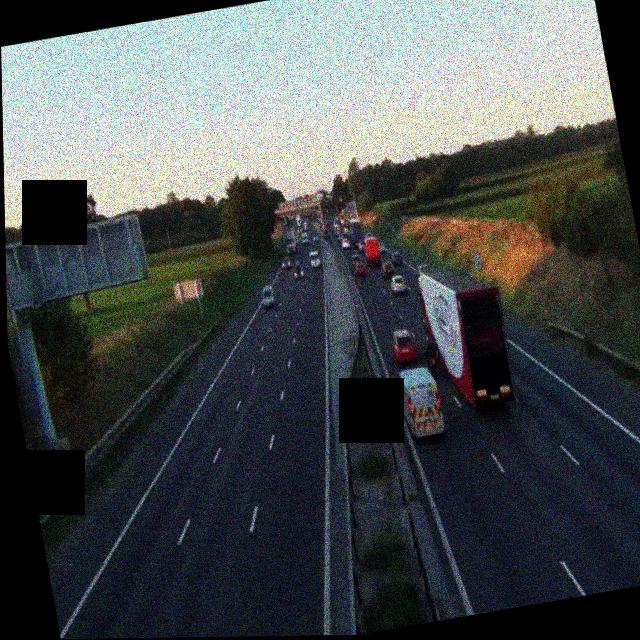car: (389, 326, 421, 367), (259, 284, 278, 310), (389, 271, 408, 295), (380, 255, 397, 279), (354, 259, 369, 278), (308, 251, 322, 271), (391, 250, 405, 268), (414, 261, 428, 276), (292, 263, 305, 279), (341, 236, 353, 250)
truck: (414, 264, 520, 415), (397, 364, 446, 440), (362, 235, 383, 267), (286, 235, 299, 258)
